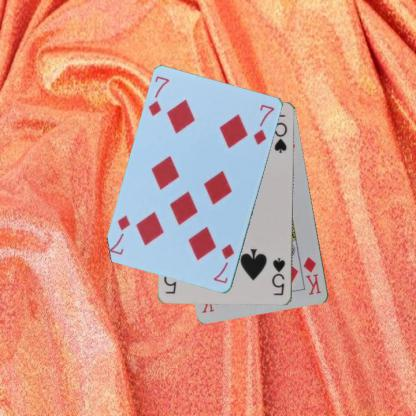5s: (270, 255, 286, 297)
7d: (146, 73, 171, 118), (211, 242, 236, 286)
Kd: (301, 254, 323, 297)
